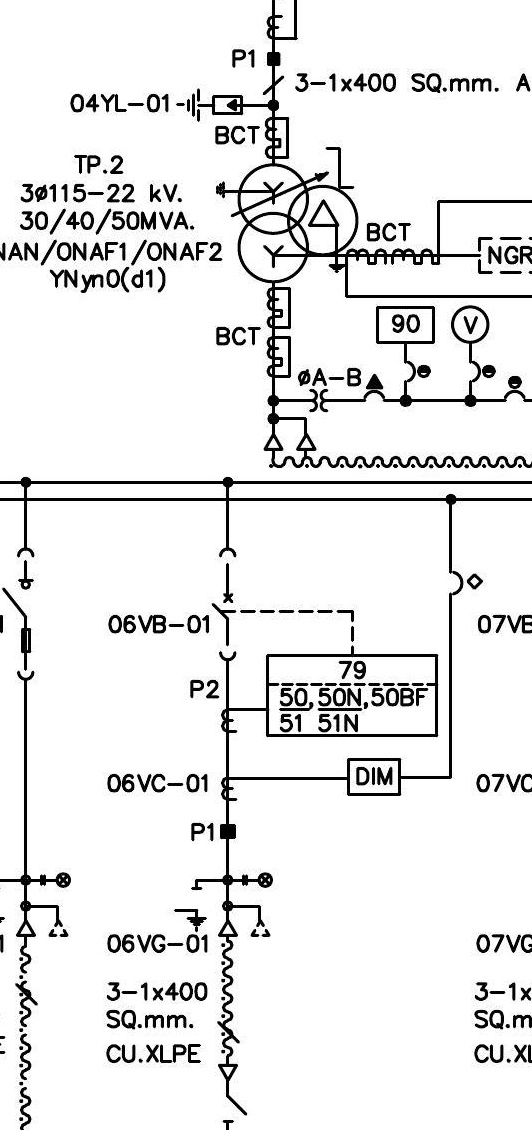11522_tx_ynyn0d1: (236, 162, 359, 284)
115_la: (175, 87, 244, 123)
22_breaker: (211, 547, 237, 662)
22_ds: (1, 547, 36, 682)
22_gs: (173, 887, 208, 934)
22_ll: (40, 872, 72, 889), (242, 872, 274, 889)
DIM: (346, 758, 402, 797)
terminator_double: (263, 416, 318, 452)
terminator_single: (217, 1064, 239, 1082)
terminator_w_future: (217, 905, 271, 938), (15, 905, 69, 937)
v_m: (450, 304, 491, 345)
